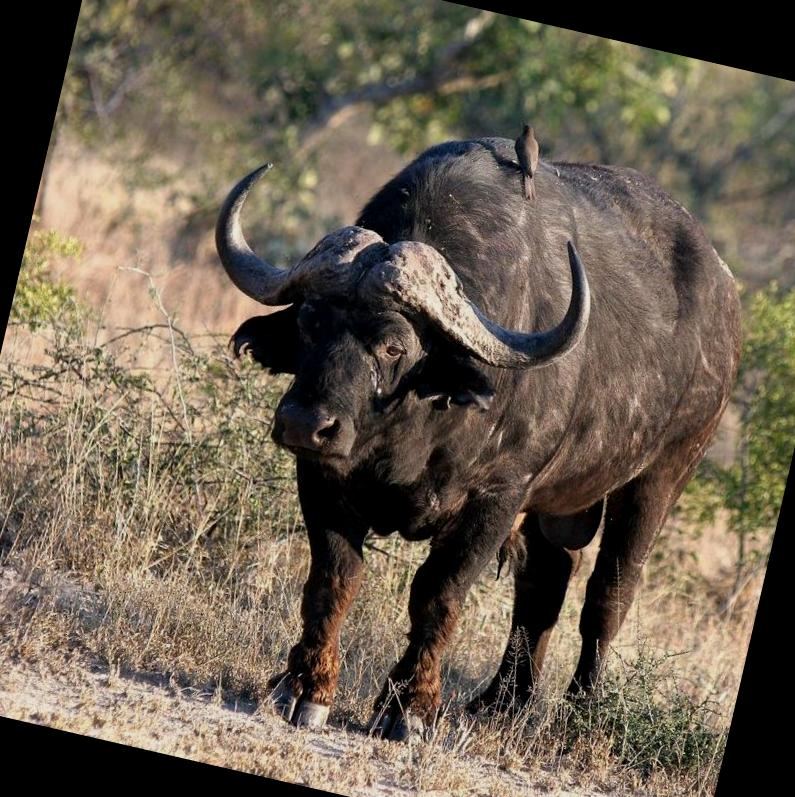Buffalo: (166, 63, 795, 797)
